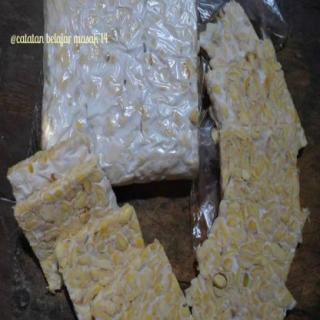Tempe: (5, 137, 184, 320), (37, 3, 207, 186)
